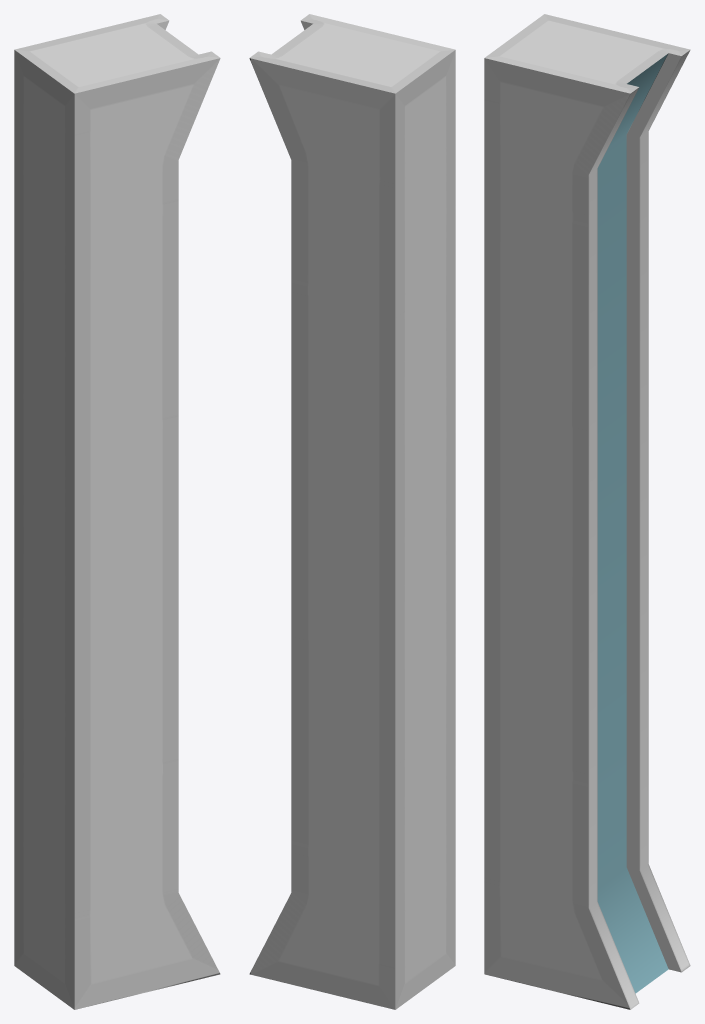
File: Poll.fbx
3 views of the same model, side by side, from view 1: azimuth 30°, elevation 25°; view 2: azimuth 150°, elevation 25°; view 3: azimuth 330°, elevation 25° (orthographic).
Parts seen in each view (by area): view 1: Poll; view 2: Poll; view 3: Poll.
Boxes of the visible parts, x1,y1,x2,y2 form: Poll: [14, 14, 220, 1009]; Poll: [249, 14, 455, 1009]; Poll: [484, 14, 690, 1009].
Size of the model in its own units: 2.7 by 16.16 by 1.92.
